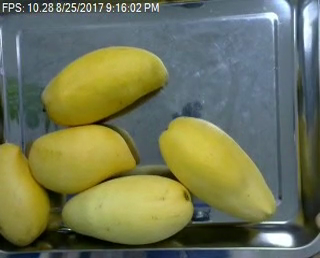Mango: (157, 114, 279, 224), (43, 45, 169, 128), (60, 175, 194, 247), (28, 122, 137, 193), (0, 140, 49, 247)
